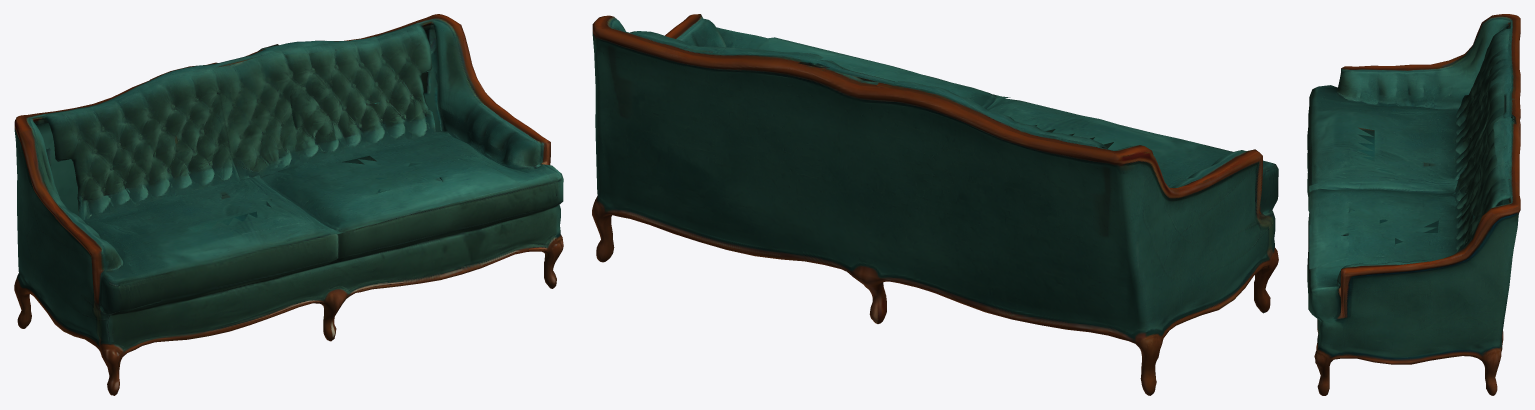
Rendered from emerald_green_vintage_velvet_sofa_0428035519_texture.glb.
The picture shows the model from 3 angles, left to right: view 1: azimuth 30°, elevation 25°; view 2: azimuth 150°, elevation 25°; view 3: azimuth 270°, elevation 25°; orthographic projection. The views are drawn at different scales.
Visible parts, largest first — view 1: Mesh_0.001; view 2: Mesh_0.001; view 3: Mesh_0.001.
Part boxes in pixels (box(x1,y1,x2,y2)): Mesh_0.001: box(14, 14, 563, 395); Mesh_0.001: box(592, 14, 1278, 395); Mesh_0.001: box(1307, 14, 1520, 395).
Bounding box in the file's own units: 2.05 × 0.889 × 0.8806.
1 material, 1 textured.
